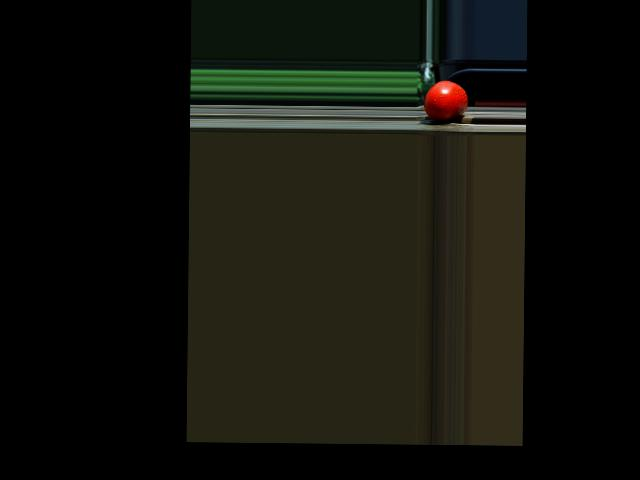tomato: (423, 80, 467, 120)
